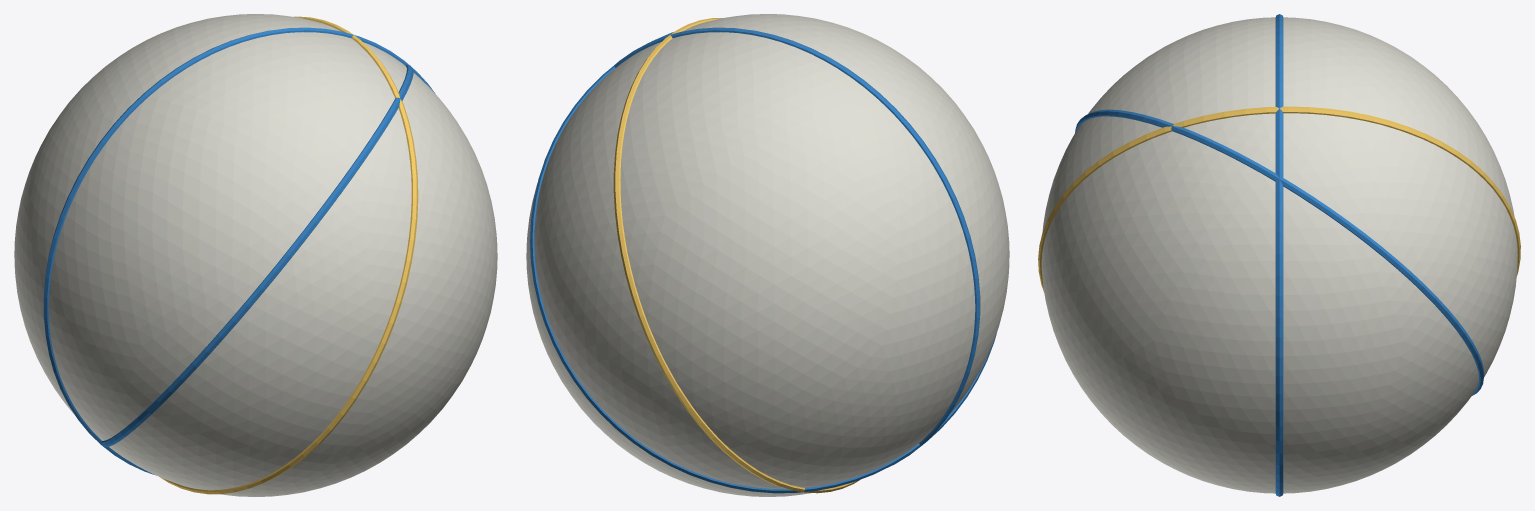
File: volleyball_pro.glb
3 views of the same model, side by side, from view 1: azimuth 30°, elevation 25°; view 2: azimuth 150°, elevation 25°; view 3: azimuth 270°, elevation 25° (orthographic).
Visible parts, largest first — view 1: Ball_Shell, Panel_Seam_2, Panel_Seam_0, Panel_Seam_1; view 2: Ball_Shell, Panel_Seam_2, Panel_Seam_0, Panel_Seam_1; view 3: Ball_Shell, Panel_Seam_0, Panel_Seam_2, Panel_Seam_1.
Boxes of the visible parts, box(x1,y1,x2,y2) form: Ball_Shell: box(14, 14, 497, 496); Panel_Seam_2: box(160, 16, 418, 494); Panel_Seam_0: box(43, 27, 435, 474); Panel_Seam_1: box(101, 64, 413, 446); Ball_Shell: box(526, 14, 1009, 496); Panel_Seam_2: box(613, 18, 859, 493); Panel_Seam_0: box(614, 27, 980, 467); Panel_Seam_1: box(530, 32, 996, 493); Ball_Shell: box(1041, 17, 1517, 493); Panel_Seam_0: box(1275, 14, 1283, 496); Panel_Seam_2: box(1038, 106, 1520, 292); Panel_Seam_1: box(1075, 109, 1484, 395).
Bounding box in the file's own units: 0.4458 × 0.4459 × 0.4457.
